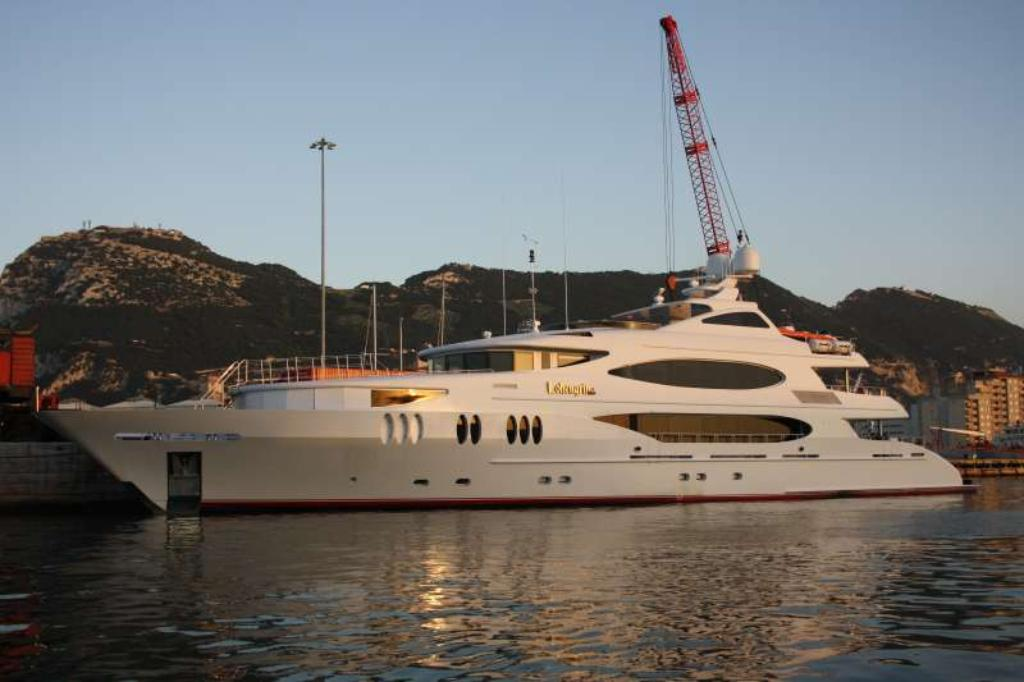PassengerShip: (35, 232, 973, 528)
